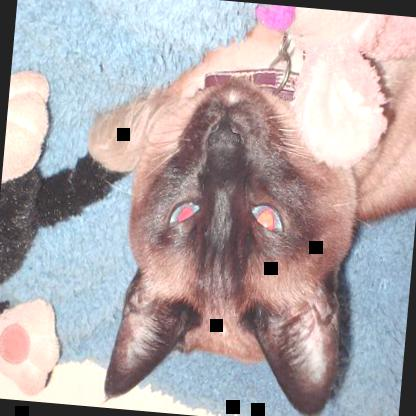cat: (72, 14, 415, 415)
